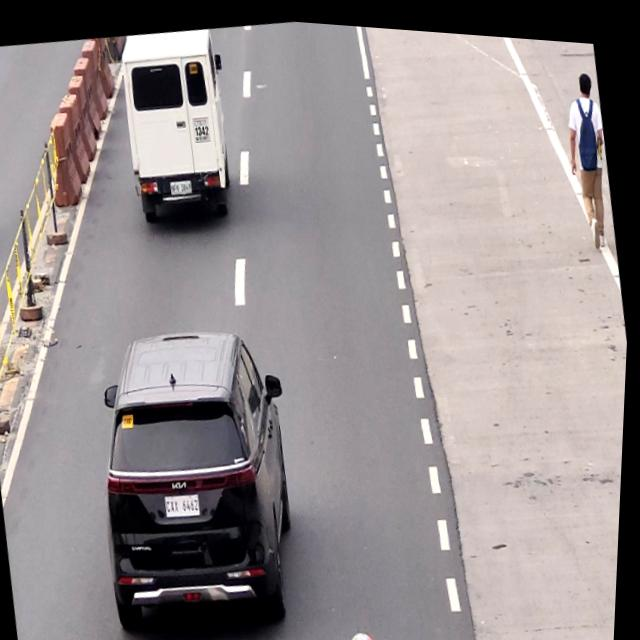Car: (81, 309, 322, 634), (113, 20, 243, 220)
License-Plate: (166, 488, 207, 522), (169, 173, 197, 193)
